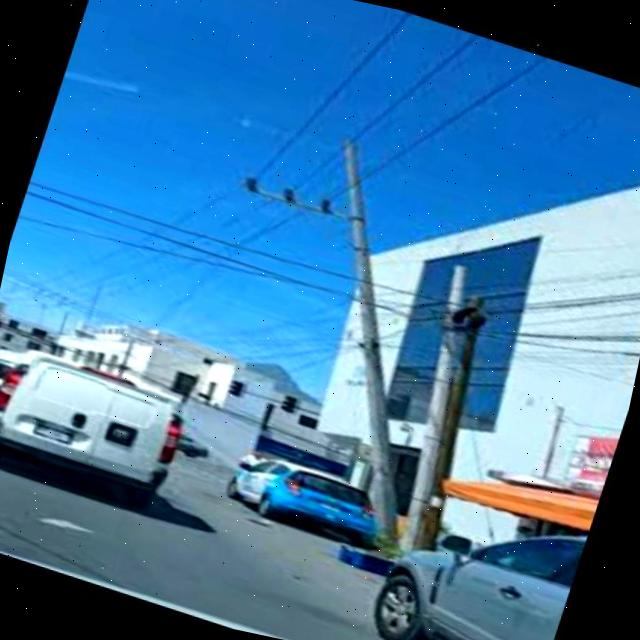Broken Pole: (239, 137, 397, 541)
